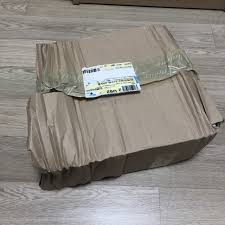damaged package: (26, 67, 198, 106), (23, 100, 66, 178)
